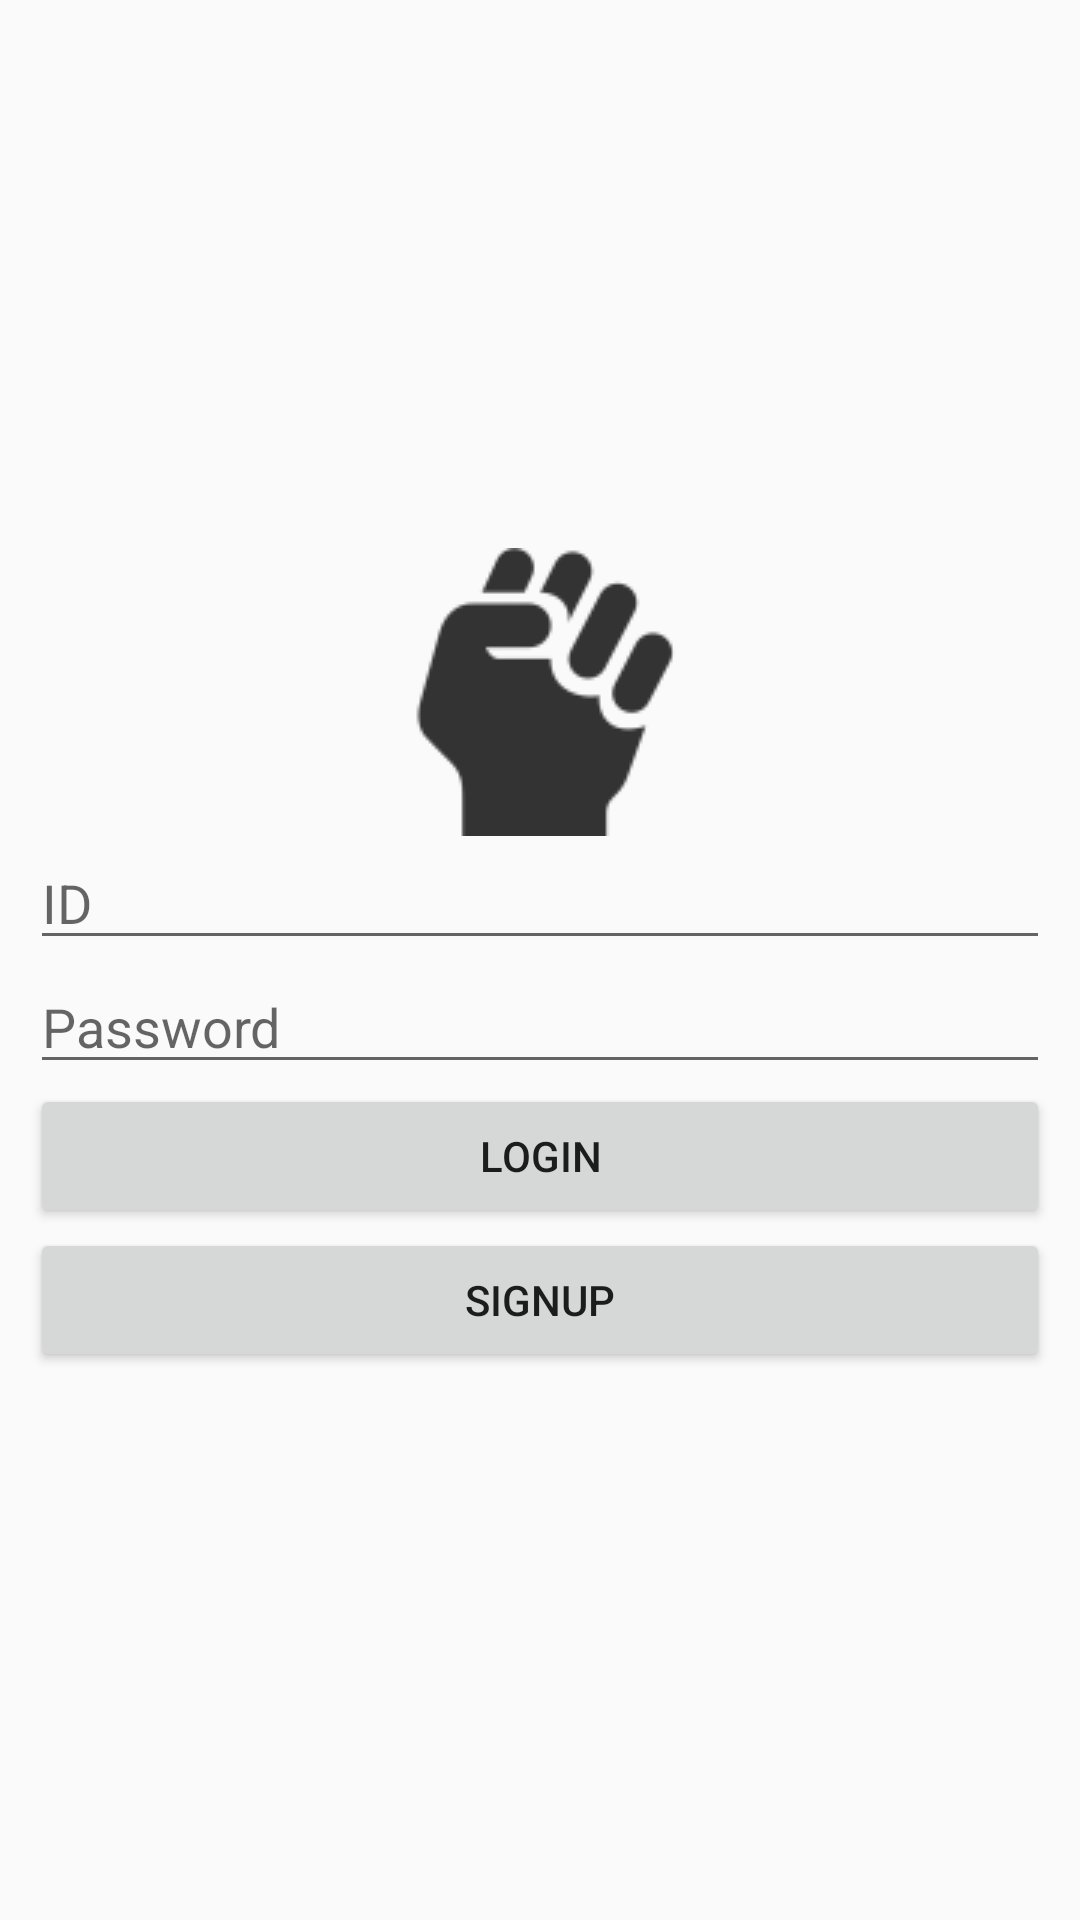

Screen size 1080x1920. Icon name, then its box in pixels as (x1, y1, x2, y2):
fist hand: (416, 548, 673, 836)
